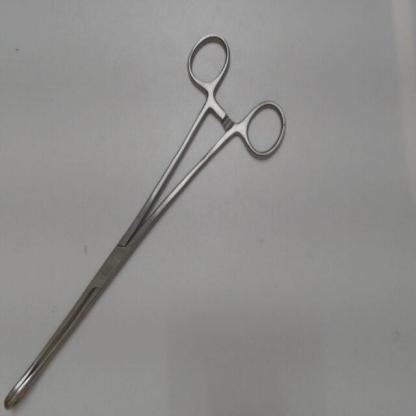Sponge Forceps: (1, 24, 299, 414)
